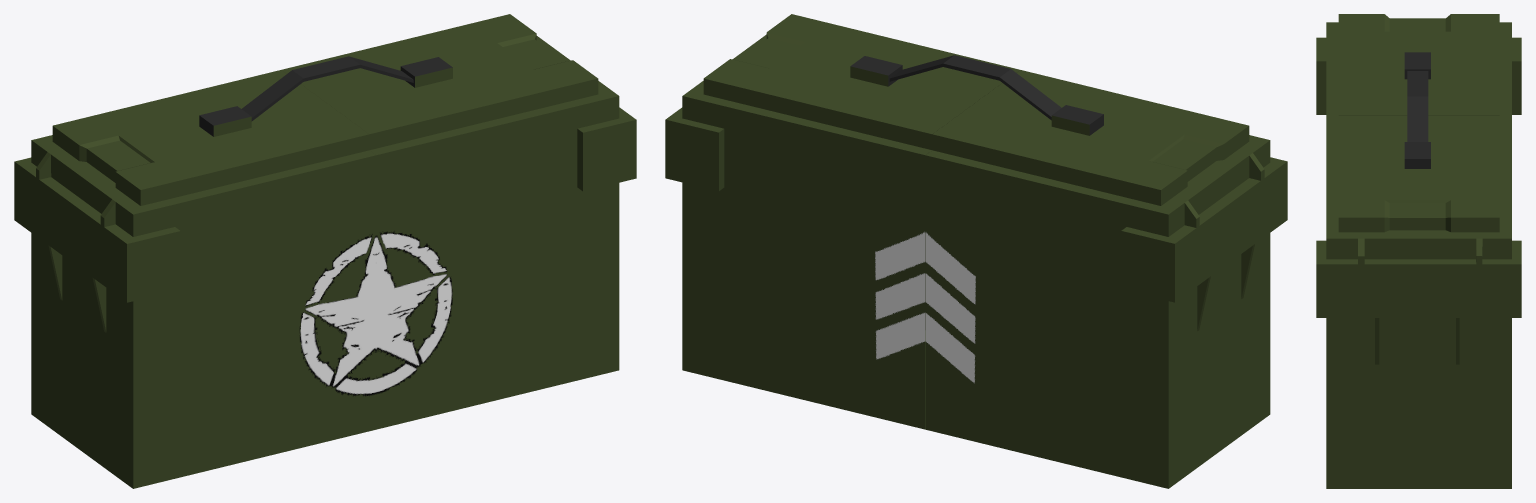
The model's file is 7.62ammobox.fbx.
3 renders of one model, left to right at view 1: azimuth 30°, elevation 25°; view 2: azimuth 150°, elevation 25°; view 3: azimuth 270°, elevation 25°, orthographic. The views are drawn at different scales.
Visible parts, largest first — view 1: Box; view 2: Box; view 3: Box.
Boxes of the visible parts, bbox=[...] form: Box: bbox=[14, 14, 636, 488]; Box: bbox=[665, 14, 1287, 488]; Box: bbox=[1316, 14, 1521, 488].
Bounding box in the file's own units: 993 × 606 × 380.
1 material, 1 textured.
